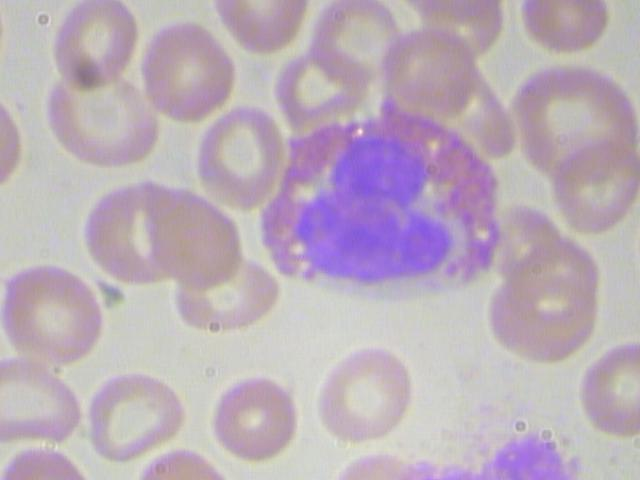RBC: (182, 100, 298, 217), (0, 259, 115, 373), (135, 14, 245, 124), (42, 69, 164, 167), (200, 360, 311, 459), (308, 343, 418, 442), (80, 366, 190, 465), (32, 1, 148, 93), (150, 185, 245, 287), (546, 129, 639, 231), (574, 331, 639, 446)
WBC: (253, 113, 514, 295)
